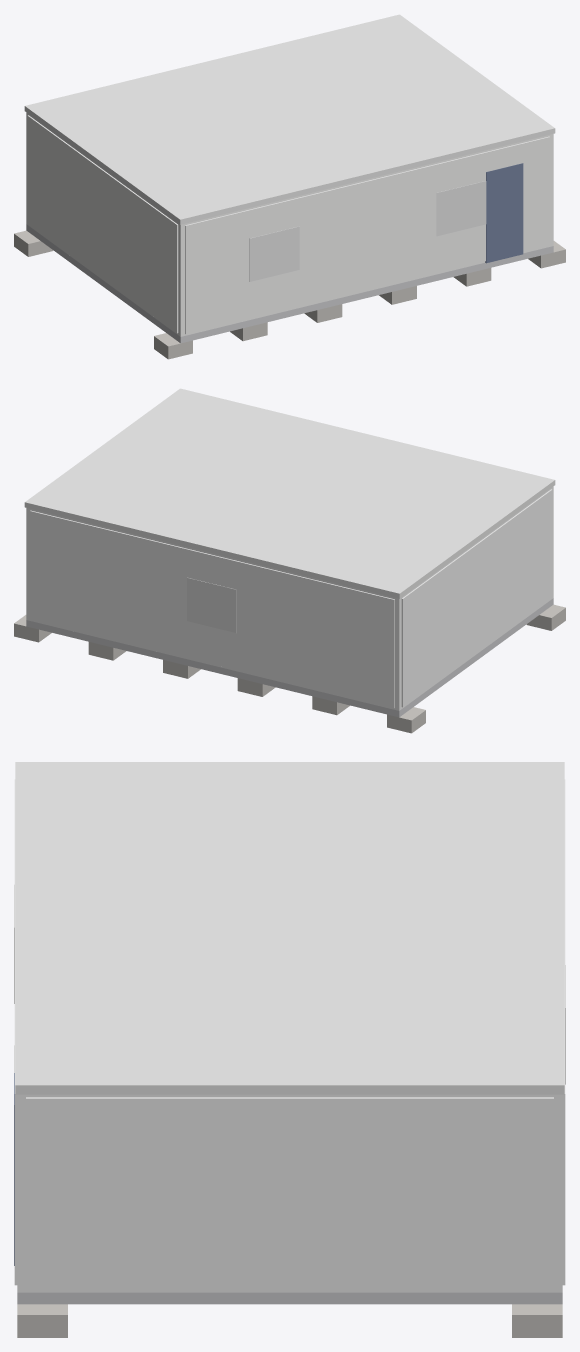
The model's file is Studio-30-SolarPrep-LOD0.glb.
3 views of the same model, one above another, from view 1: azimuth 30°, elevation 25°; view 2: azimuth 150°, elevation 25°; view 3: azimuth 270°, elevation 25° (orthographic). The views are drawn at different scales.
Visible parts, largest first — view 1: RoofMain, ExteriorPanelsStandard, WindowsStandard, BaseFrame, FoundationBlocks, ExteriorShell, EntryDoor; view 2: RoofMain, ExteriorPanelsStandard, BaseFrame, FoundationBlocks, ExteriorShell, WindowsStandard; view 3: RoofMain, ExteriorPanelsStandard, ExteriorShell, BaseFrame, FoundationBlocks.
Part boxes in pixels (x1=…): RoofMain: x1=24, y1=14, x2=555, y2=224; ExteriorPanelsStandard: x1=27, y1=115, x2=550, y2=334; WindowsStandard: x1=249, y1=181, x2=486, y2=281; BaseFrame: x1=26, y1=224, x2=553, y2=343; FoundationBlocks: x1=14, y1=230, x2=565, y2=359; ExteriorShell: x1=26, y1=112, x2=553, y2=336; EntryDoor: x1=485, y1=163, x2=523, y2=263; RoofMain: x1=24, y1=388, x2=555, y2=598; ExteriorPanelsStandard: x1=30, y1=489, x2=552, y2=708; BaseFrame: x1=26, y1=598, x2=553, y2=717; FoundationBlocks: x1=14, y1=604, x2=565, y2=733; ExteriorShell: x1=26, y1=486, x2=553, y2=710; WindowsStandard: x1=187, y1=577, x2=236, y2=633; RoofMain: x1=15, y1=762, x2=564, y2=1094; ExteriorPanelsStandard: x1=14, y1=779, x2=565, y2=1289; ExteriorShell: x1=17, y1=1094, x2=562, y2=1292; BaseFrame: x1=17, y1=1292, x2=562, y2=1304; FoundationBlocks: x1=17, y1=1304, x2=562, y2=1337.
Size of the model in its own units: 9.6 by 3.17 by 6.53.
